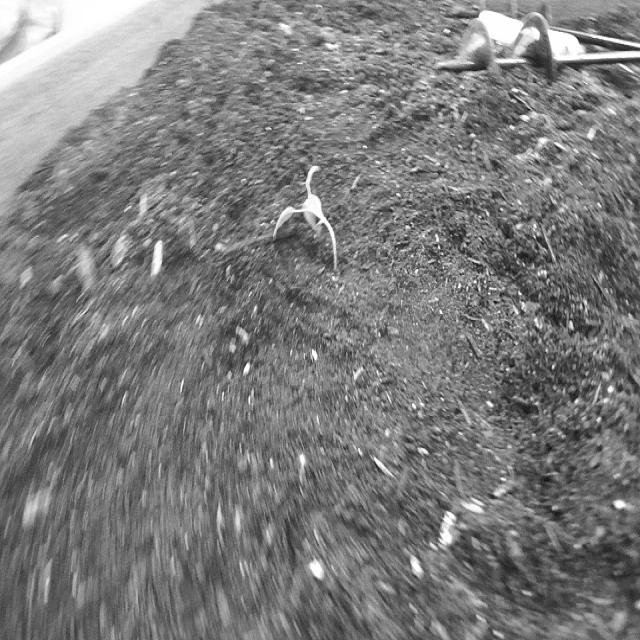Healthy: (259, 156, 354, 306)
